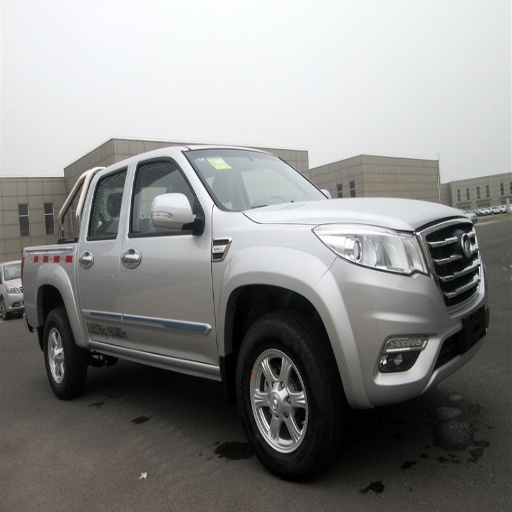front_bumper: (321, 219, 484, 404)
front_right_door: (122, 156, 212, 363)
front_right_light: (315, 227, 426, 274)
trunk: (2, 245, 73, 324)
